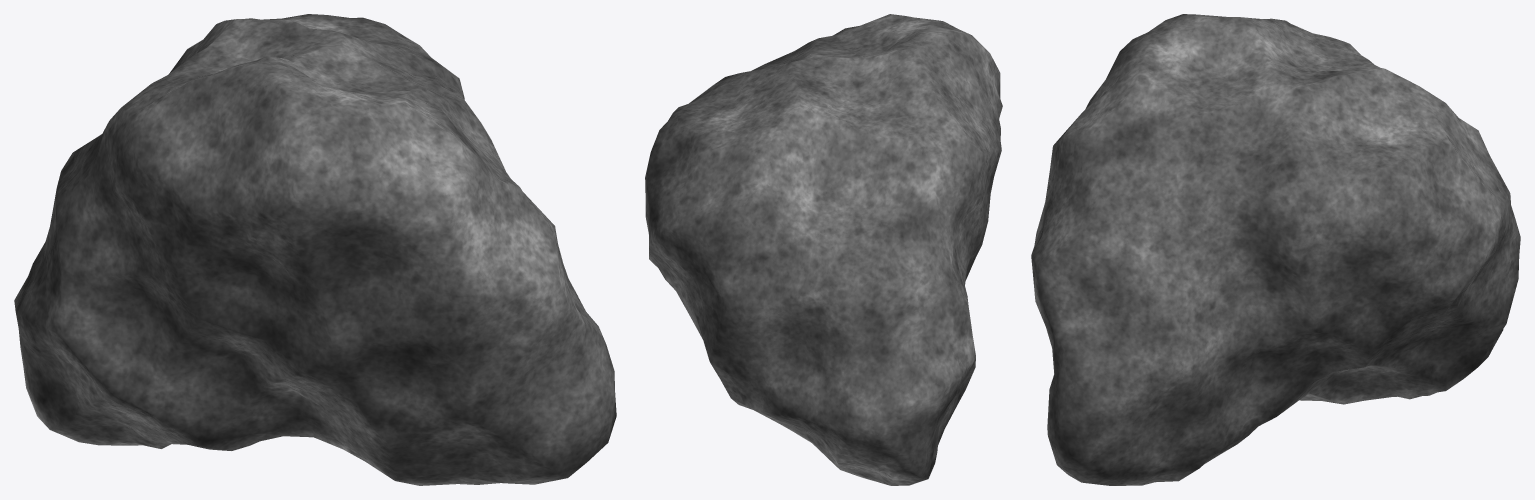
The picture shows the model from 3 angles, left to right: view 1: azimuth 30°, elevation 25°; view 2: azimuth 150°, elevation 25°; view 3: azimuth 270°, elevation 25°; orthographic projection. The views are drawn at different scales.
Parts seen in each view (by area): view 1: rock.002; view 2: rock.002; view 3: rock.002.
Boxes of the visible parts, left/top/right/bottom form: rock.002: left=14, top=14, right=616, bottom=485; rock.002: left=645, top=14, right=1002, bottom=485; rock.002: left=1031, top=14, right=1520, bottom=485.
Bounding box in the file's own units: 2.49 × 2.5 × 2.8.
1 material, 1 textured.
